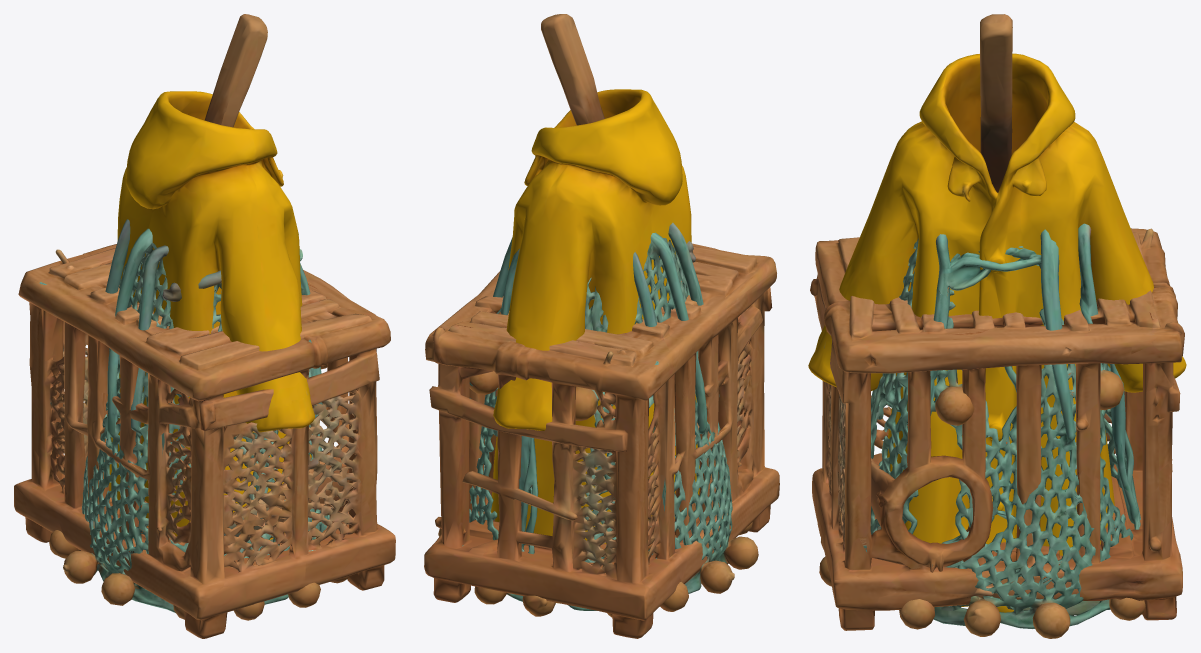
File: peche.glb
The picture shows the model from 3 angles, left to right: view 1: azimuth 30°, elevation 25°; view 2: azimuth 150°, elevation 25°; view 3: azimuth 270°, elevation 25°; orthographic projection. The views are drawn at different scales.
Visible parts, largest first — view 1: casier-a-homard, cire-de-pecheur, filet-de-peche; view 2: casier-a-homard, cire-de-pecheur, filet-de-peche; view 3: casier-a-homard, cire-de-pecheur, filet-de-peche.
Boxes of the visible parts, bbox=[...] form: casier-a-homard: bbox=[14, 244, 395, 638]; cire-de-pecheur: bbox=[109, 14, 314, 540]; filet-de-peche: bbox=[49, 219, 348, 620]; casier-a-homard: bbox=[424, 243, 779, 638]; cire-de-pecheur: bbox=[491, 14, 699, 603]; filet-de-peche: bbox=[438, 222, 758, 617]; casier-a-homard: bbox=[810, 228, 1184, 630]; cire-de-pecheur: bbox=[808, 14, 1186, 612]; filet-de-peche: bbox=[819, 223, 1145, 638].
Bounding box in the file's own units: 0.6418 × 1.2 × 0.7058.
1 material, 1 textured.
